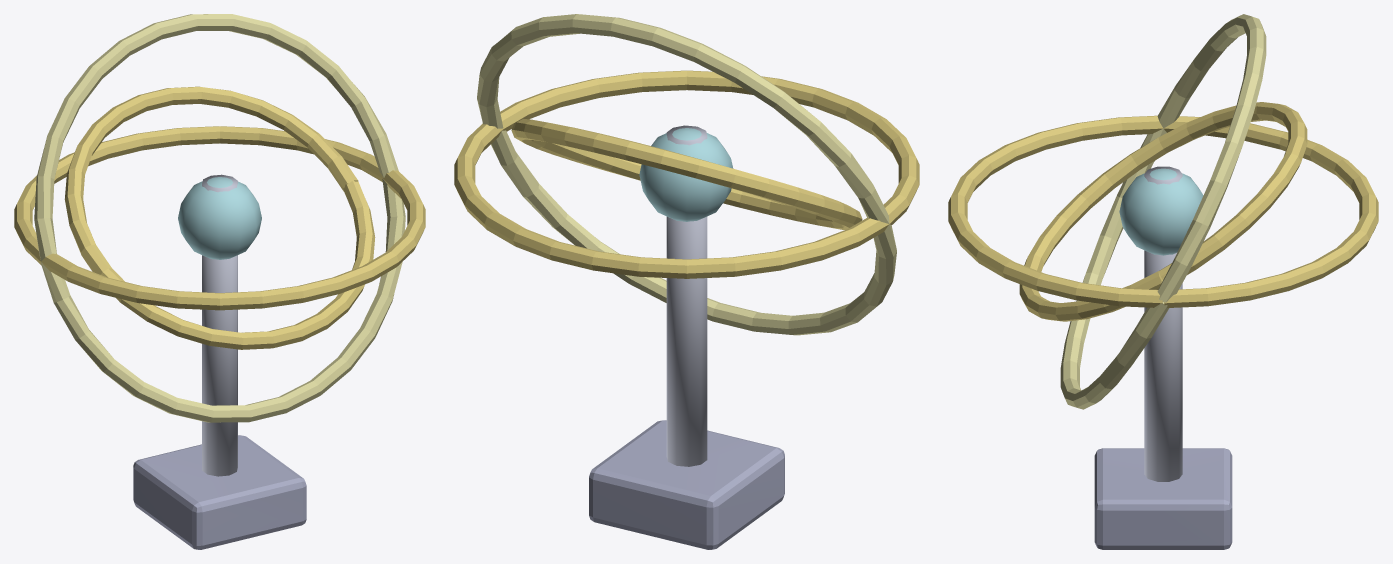
Rendered from gym_deco_temple_lite.glb.
3 views of the same model, side by side, from view 1: azimuth 30°, elevation 25°; view 2: azimuth 150°, elevation 25°; view 3: azimuth 270°, elevation 25° (orthographic). The views are drawn at different scales.
Visible parts, largest first — view 1: Cube; view 2: Cube; view 3: Cube.
Part boxes in pixels (box(x1,y1,x2,y2)): Cube: box(14, 14, 425, 549); Cube: box(454, 14, 919, 549); Cube: box(948, 14, 1378, 549).
Bounding box in the file's own units: 3.14 × 3.9 × 3.12.
